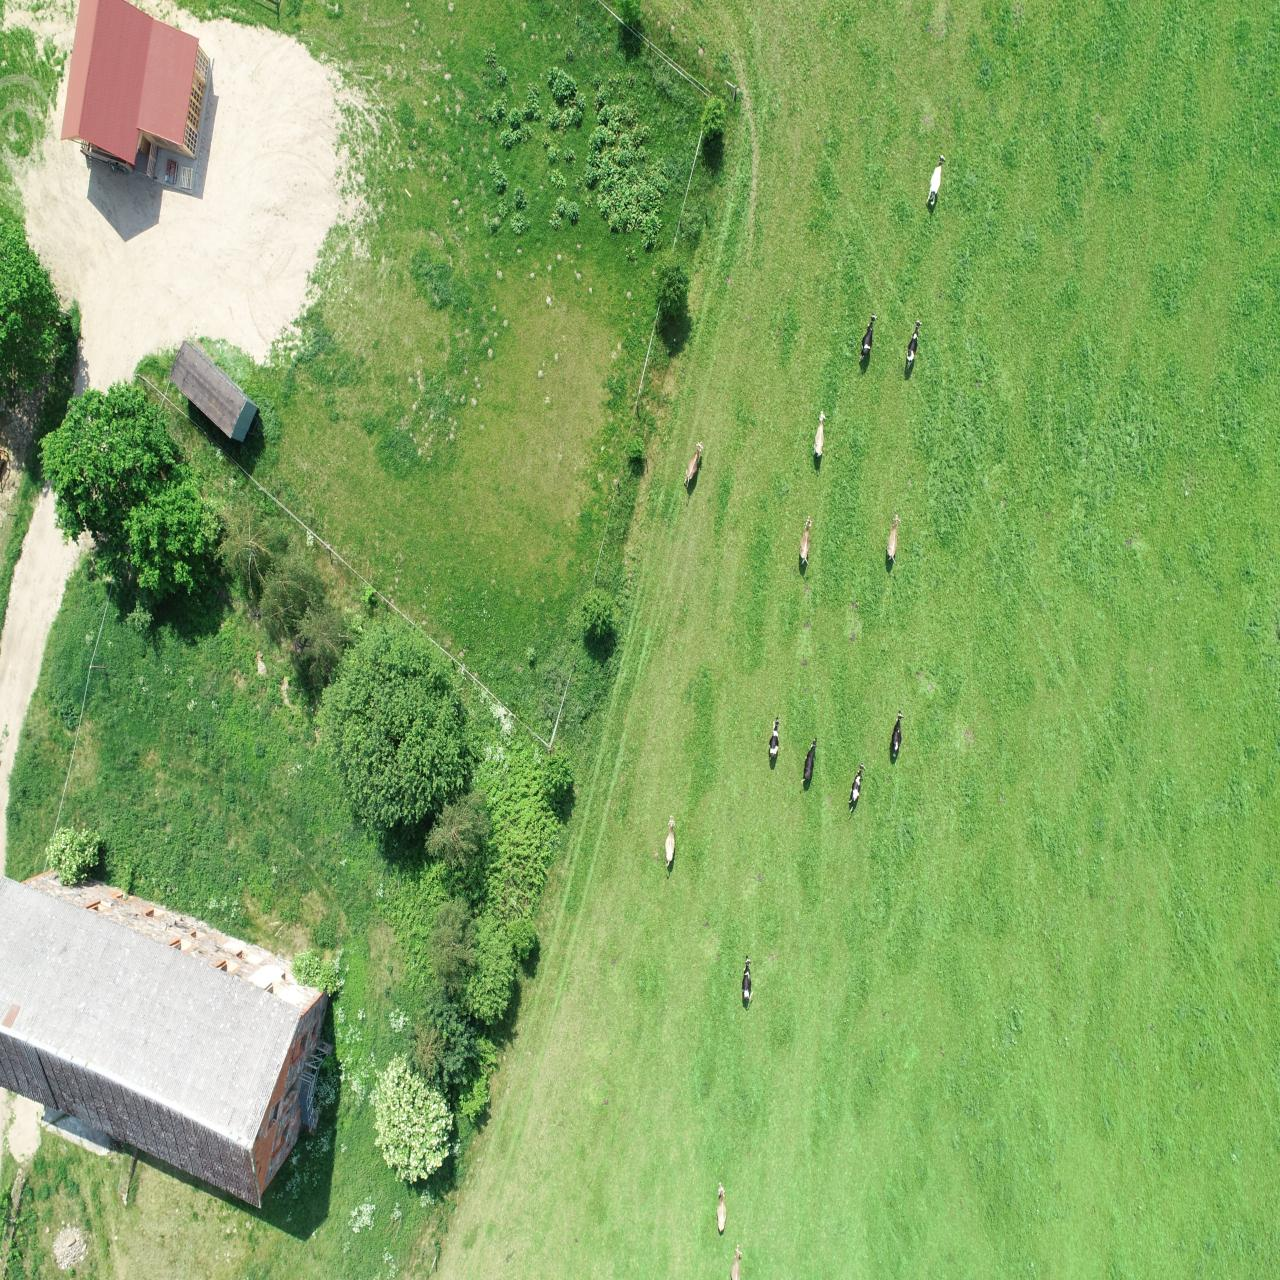cow: (680, 437, 707, 493), (924, 152, 949, 210), (660, 812, 681, 873), (903, 319, 926, 373), (857, 309, 878, 369), (884, 512, 904, 573), (845, 760, 866, 817), (799, 735, 819, 791), (710, 1180, 729, 1238), (797, 512, 815, 572), (811, 407, 828, 463), (741, 953, 757, 1008), (767, 715, 782, 764), (891, 708, 905, 760), (728, 1241, 744, 1280)
